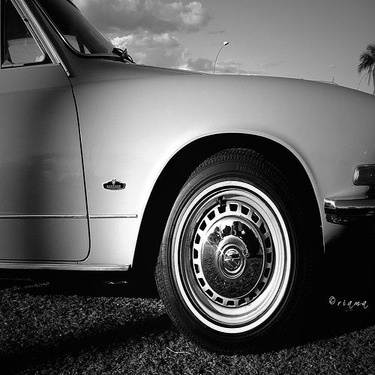car: (5, 4, 366, 370)
